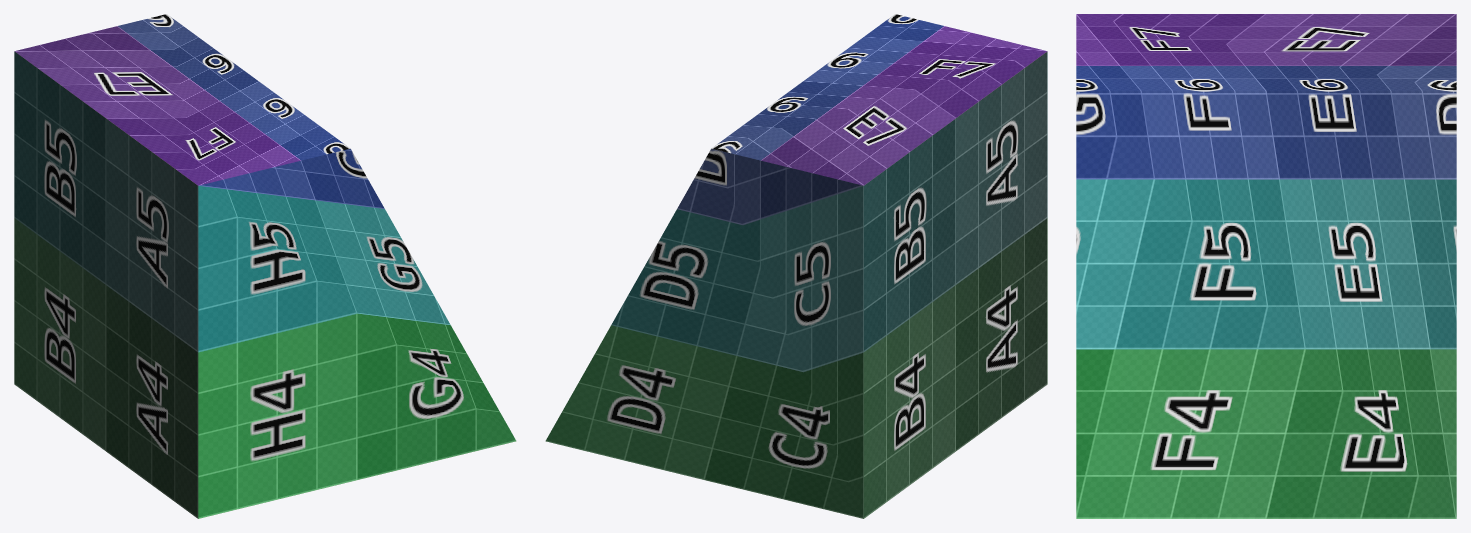
File: simple_two.gltf
The picture shows the model from 3 angles, left to right: view 1: azimuth 30°, elevation 25°; view 2: azimuth 150°, elevation 25°; view 3: azimuth 270°, elevation 25°; orthographic projection. The views are drawn at different scales.
Visible parts, largest first — view 1: Cube; view 2: Cube; view 3: Cube.
Boxes of the visible parts, bbox=[...] form: Cube: bbox=[14, 14, 516, 518]; Cube: bbox=[545, 14, 1047, 518]; Cube: bbox=[1076, 14, 1456, 518].
Size of what is drawn, in the model's own units: 2 by 2 by 2.
1 material, 1 textured.
